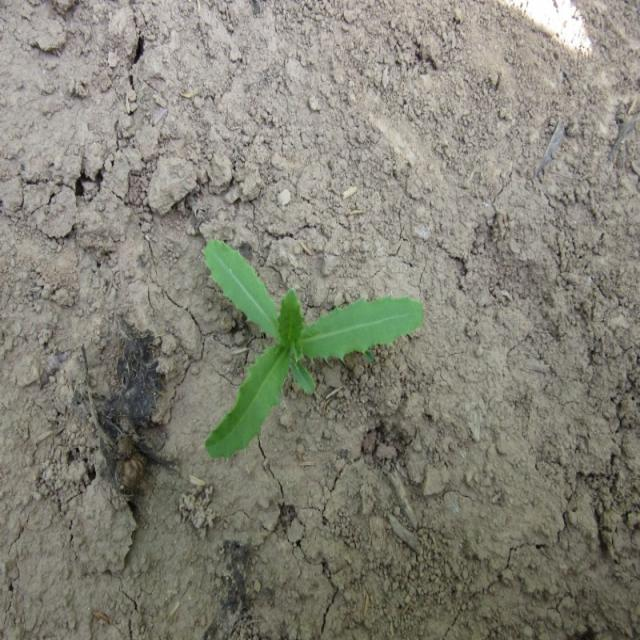cs: (200, 228, 429, 468)
